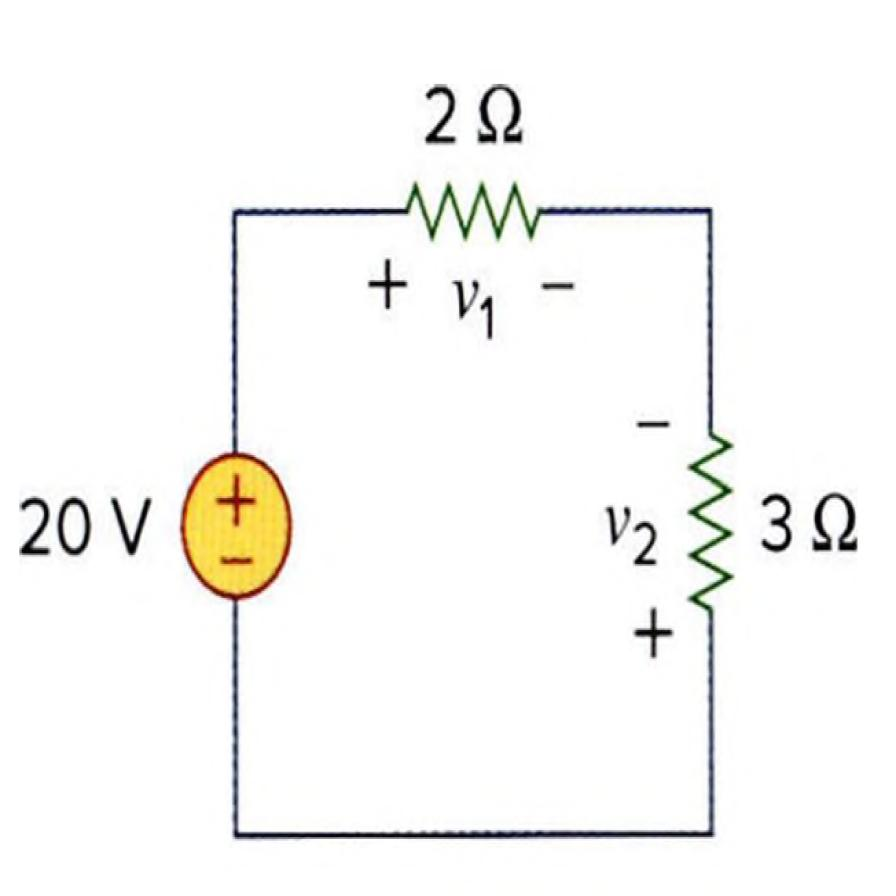R1: (398, 161, 548, 256)
R2: (680, 424, 744, 626)
V1: (166, 439, 302, 621)
